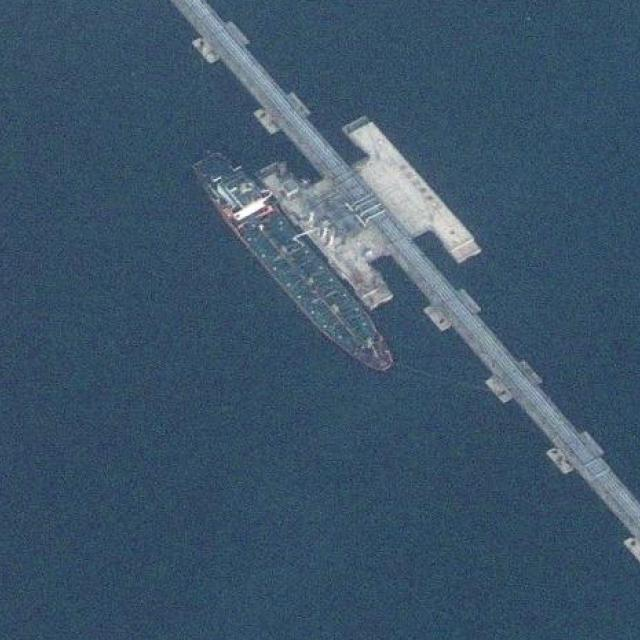Oil Tanker: (184, 139, 403, 387)
